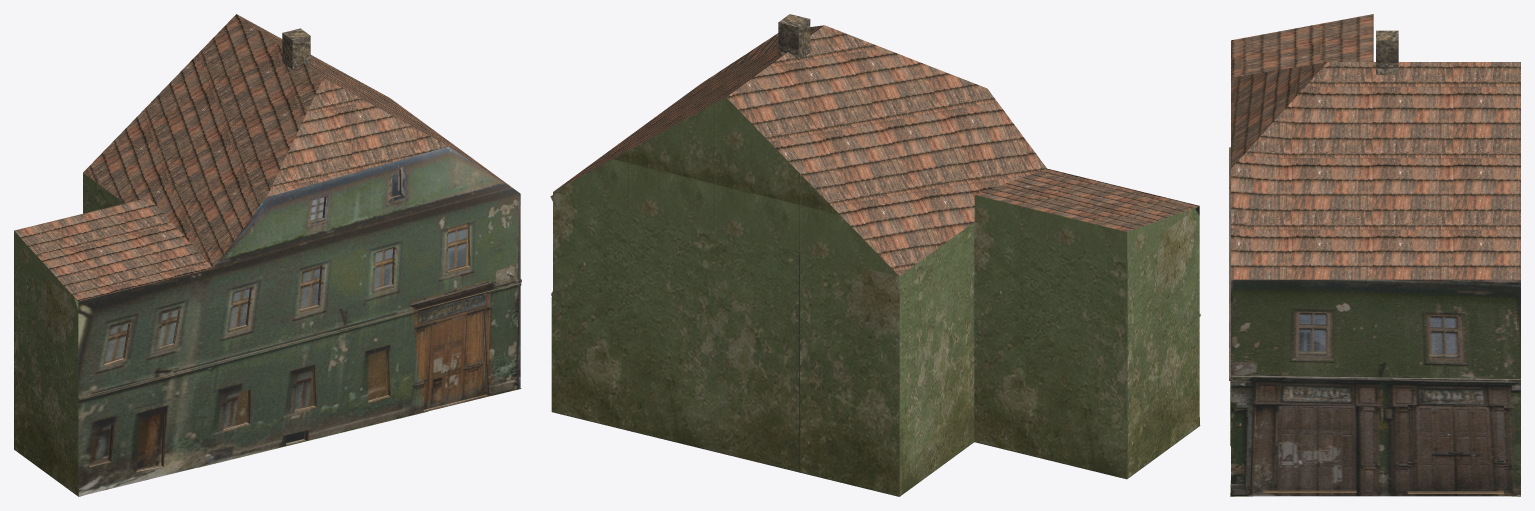
3 views of the same model, side by side, from view 1: azimuth 30°, elevation 25°; view 2: azimuth 150°, elevation 25°; view 3: azimuth 270°, elevation 25° (orthographic). The views are drawn at different scales.
Parts seen in each view (by area): view 1: roof_main_1, CP40_inherited_rear_provisional, roof_extension, roof_main_0, A_wall_36_0, A_wall_16_0, A_wall_24_0, A_wall_51_0, A_wall_44_0, A_opening_11, C_wall_5_0, C_wall_9_0 (+37 smaller); view 2: CP40_inherited_rear_provisional, roof_main_1, rear_gable, roof_extension, roof_main_2, extension_rear, extension_left; view 3: roof_main_2, B_wall_4_0, B_opening_3, B_opening_2, B_wall_0_0, roof_extension, B_wall_7_0, roof_main_0, B_wall_1_0, B_wall_3_0, B_wall_8_0, B_wall_5_0 (+10 smaller).
Part boxes in pixels (<box>): roof_main_1: <box>83,14,323,267</box>; CP40_inherited_rear_provisional: <box>14,173,521,496</box>; roof_extension: <box>14,197,213,301</box>; roof_main_0: <box>267,78,448,197</box>; A_wall_36_0: <box>322,231,368,436</box>; A_wall_16_0: <box>180,266,222,471</box>; A_wall_24_0: <box>252,251,285,454</box>; A_wall_51_0: <box>489,193,520,396</box>; A_wall_44_0: <box>394,217,423,419</box>; A_opening_11: <box>423,312,486,409</box>; C_wall_5_0: <box>326,163,389,240</box>; C_wall_9_0: <box>401,146,448,222</box>; CP40_inherited_rear_provisional: <box>550,193,1200,496</box>; roof_main_1: <box>726,25,1046,276</box>; rear_gable: <box>553,97,899,276</box>; roof_extension: <box>975,168,1199,231</box>; roof_main_2: <box>555,25,823,190</box>; extension_rear: <box>974,195,1126,258</box>; extension_left: <box>1127,206,1198,258</box>; roof_main_2: <box>1231,62,1520,279</box>; B_wall_4_0: <box>1356,279,1407,496</box>; B_opening_3: <box>1407,405,1503,491</box>; B_opening_2: <box>1262,406,1356,490</box>; B_wall_0_0: <box>1231,279,1262,496</box>; roof_extension: <box>1231,14,1373,77</box>; B_wall_7_0: <box>1458,279,1503,404</box>; roof_main_0: <box>1231,62,1326,168</box>; B_wall_1_0: <box>1262,279,1297,405</box>; B_wall_3_0: <box>1326,279,1356,405</box>; B_wall_8_0: <box>1504,279,1520,496</box>; B_wall_5_0: <box>1407,279,1428,404</box>.
Size of the model in its own units: 17.63 by 12.9 by 9.03.
Materials: 7 (7 with a texture image).
